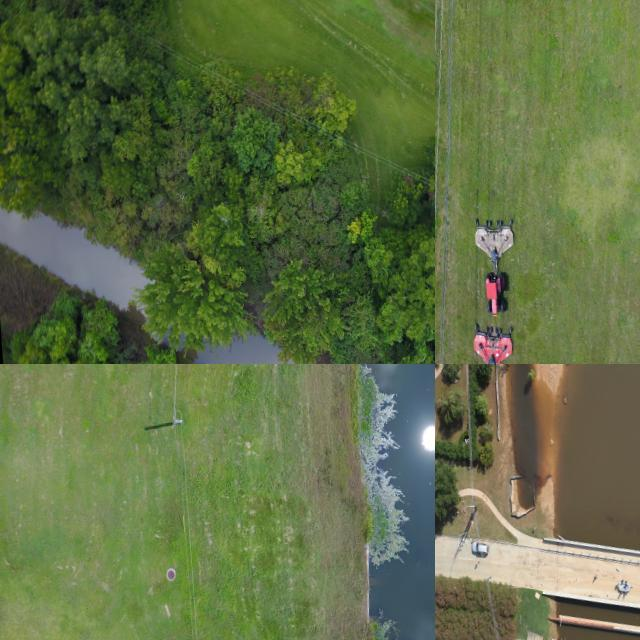fire: (556, 364, 640, 549), (0, 208, 145, 307), (505, 364, 555, 508), (556, 599, 640, 625), (556, 621, 640, 640)
